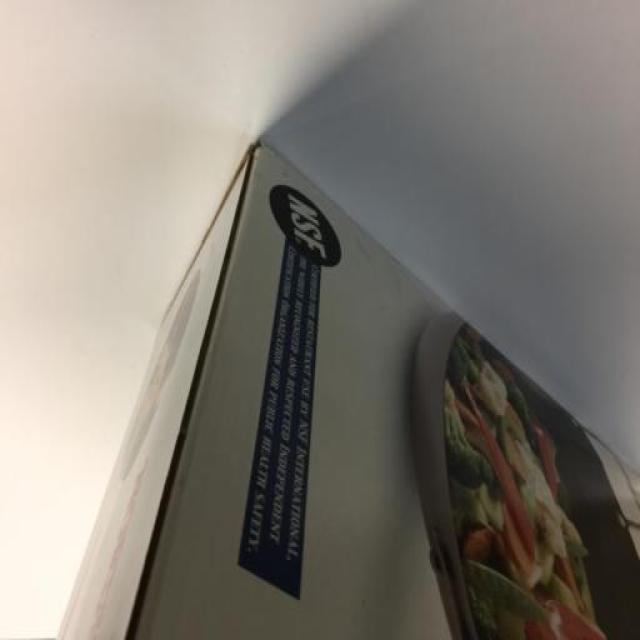cardboard: (55, 142, 640, 640)
